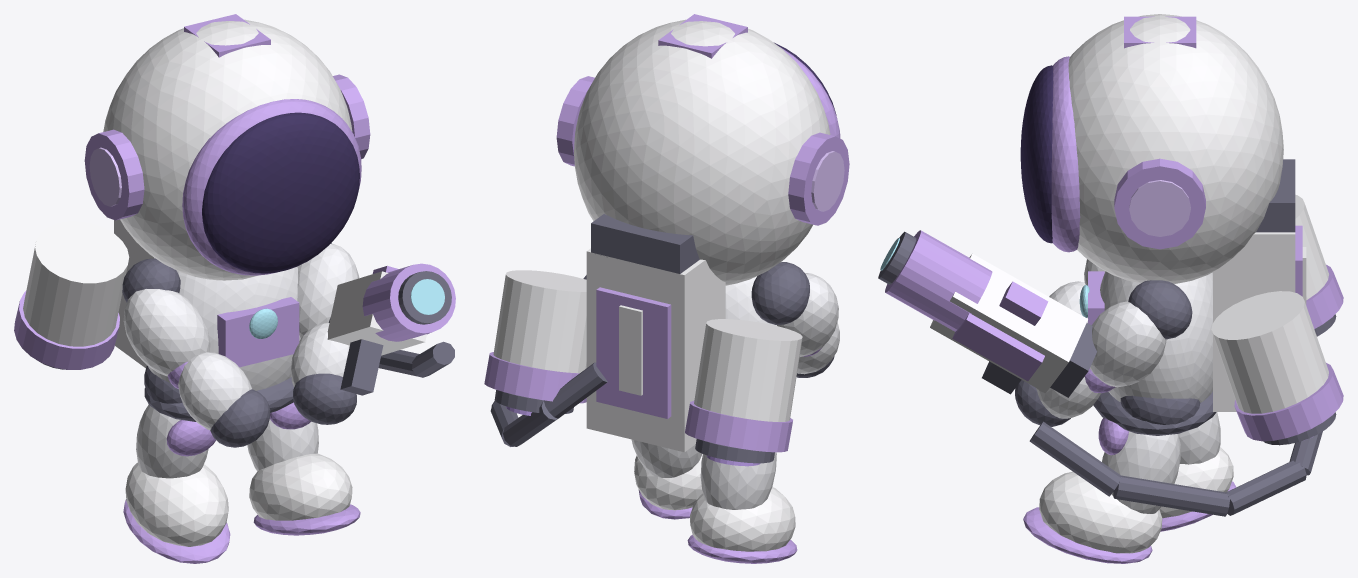
File: OxygenTrooper_Dash.fbx
The picture shows the model from 3 angles, left to right: view 1: azimuth 30°, elevation 25°; view 2: azimuth 150°, elevation 25°; view 3: azimuth 270°, elevation 25°; orthographic projection. The views are drawn at different scales.
Visible parts, largest first — view 1: Helmet_Shell, Visor_Tinted, L_ThrusterBody, L_Boot, R_Boot, Torso_Main, L_ArmUpper, Visor_Frame, Chest_Panel, L_Forearm, R_ArmUpper, Gun_Barrel (+25 smaller); view 2: Helmet_Shell, Tank_Main, L_ThrusterBody, R_ThrusterBody, Tank_FrontPlate, L_Boot, Tank_TopCap, L_ThrusterPurple, L_Shin, Helmet_Earpad_-1, L_ShoulderJoint, R_ThrusterPurple (+17 smaller); view 3: Helmet_Shell, R_ThrusterBody, Torso_Main, R_Boot, Gun_MainBody, Gun_Barrel, Tank_Main, R_ArmUpper, Visor_Frame, Visor_Tinted, Helmet_Earpad_1, R_ThrusterPurple (+27 smaller).
Boxes of the visible parts, x1,y1,x2,y2 form: Helmet_Shell: [103, 19, 352, 280]; Visor_Tinted: [202, 112, 359, 273]; L_ThrusterBody: [23, 221, 129, 346]; L_Boot: [125, 462, 228, 546]; R_Boot: [249, 453, 352, 520]; Torso_Main: [148, 266, 300, 390]; L_ArmUpper: [123, 289, 210, 376]; Visor_Frame: [182, 99, 361, 275]; Chest_Panel: [217, 297, 299, 367]; L_Forearm: [178, 352, 251, 430]; R_ArmUpper: [297, 243, 359, 338]; Gun_Barrel: [362, 263, 455, 341]; Helmet_Shell: [574, 19, 830, 285]; Tank_Main: [586, 248, 725, 452]; L_ThrusterBody: [694, 319, 802, 421]; R_ThrusterBody: [493, 270, 586, 373]; Tank_FrontPlate: [596, 287, 671, 418]; L_Boot: [690, 487, 795, 551]; Tank_TopCap: [591, 214, 699, 273]; L_ThrusterPurple: [685, 401, 792, 452]; L_Shin: [700, 452, 776, 509]; Helmet_Earpad_-1: [788, 132, 849, 225]; L_ShoulderJoint: [751, 262, 809, 324]; R_ThrusterPurple: [484, 352, 586, 403]; Helmet_Shell: [1068, 14, 1283, 283]; R_ThrusterBody: [1211, 291, 1328, 413]; Torso_Main: [1100, 271, 1212, 402]; R_Boot: [1039, 471, 1162, 553]; Gun_MainBody: [930, 253, 1087, 392]; Gun_Barrel: [885, 230, 992, 331]; Tank_Main: [1213, 232, 1295, 411]; R_ArmUpper: [1090, 301, 1166, 387]; Visor_Frame: [1051, 56, 1080, 252]; Visor_Tinted: [1020, 65, 1053, 243]; Helmet_Earpad_1: [1114, 158, 1205, 249]; R_ThrusterPurple: [1234, 363, 1343, 441].
Bounding box in the file's own units: 150 × 223 × 180.
